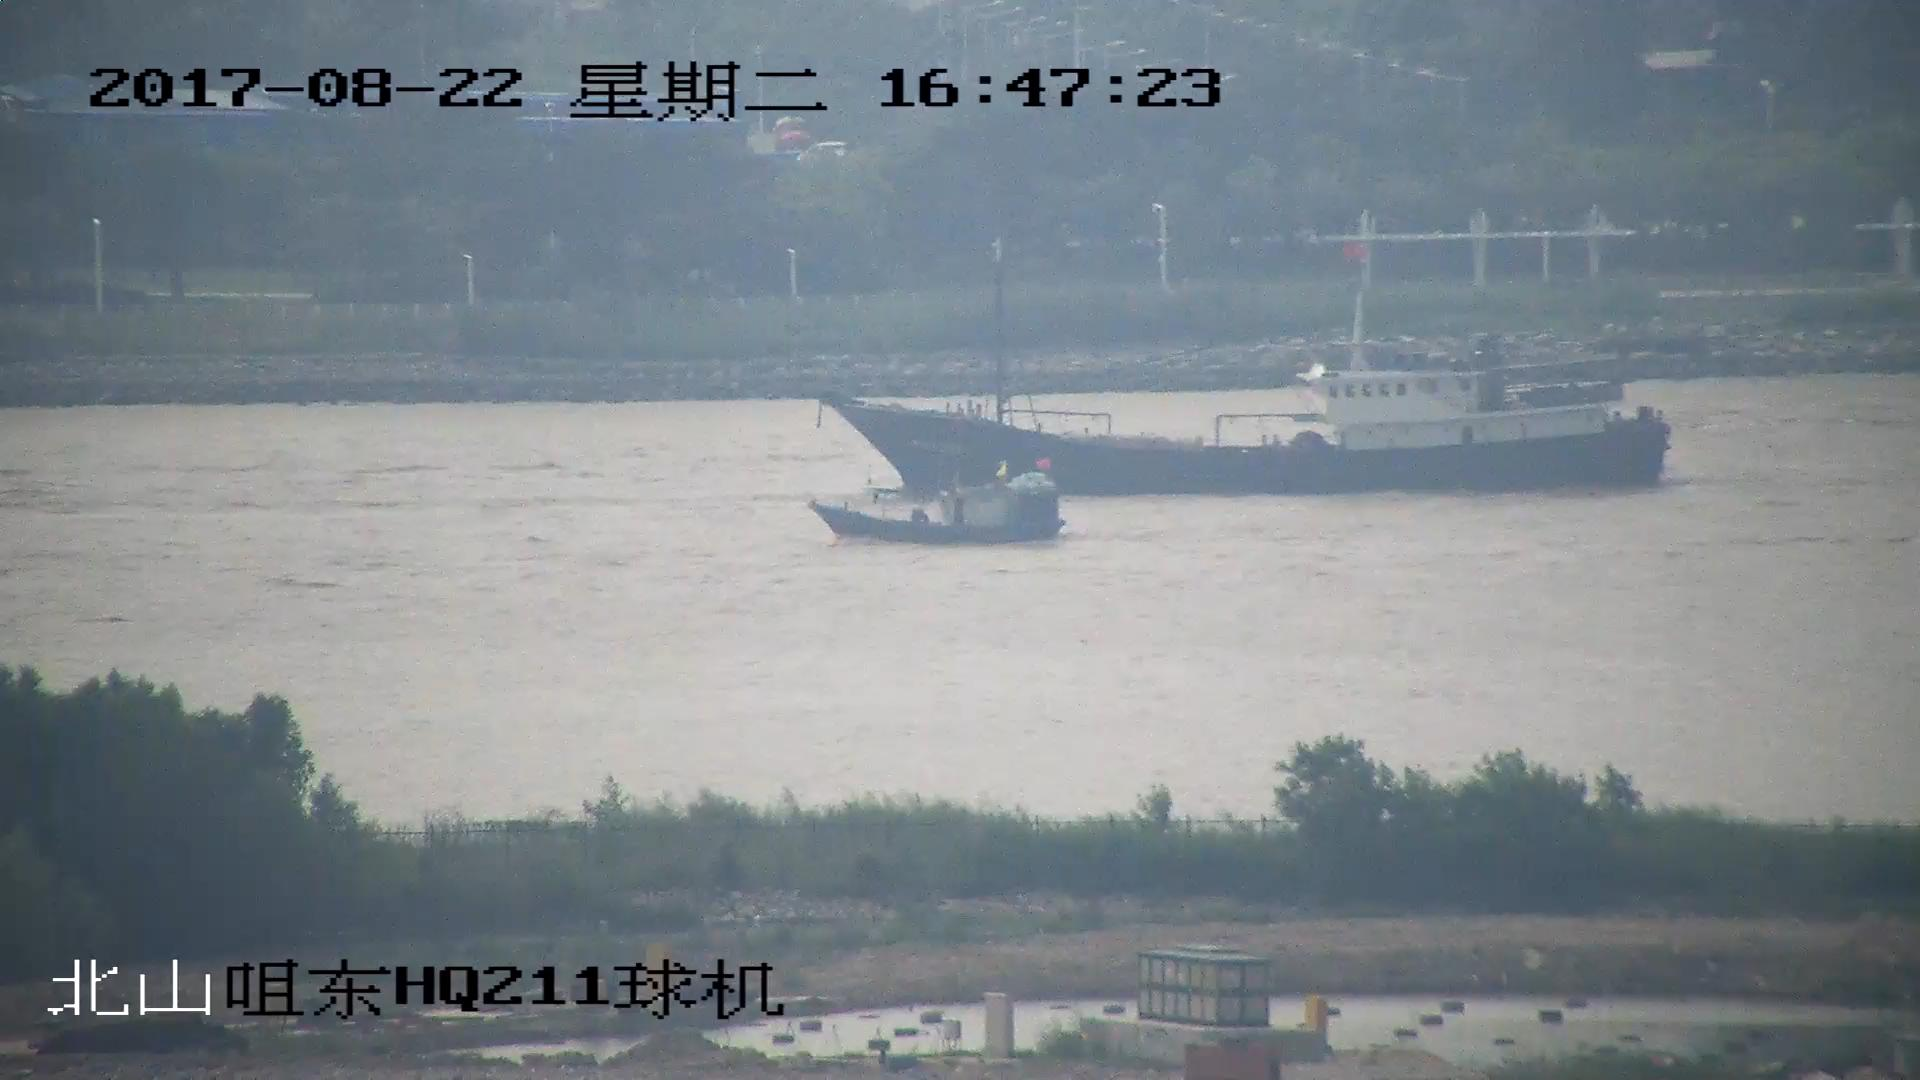fishing boat: (823, 225, 1676, 493), (810, 454, 1065, 546)
